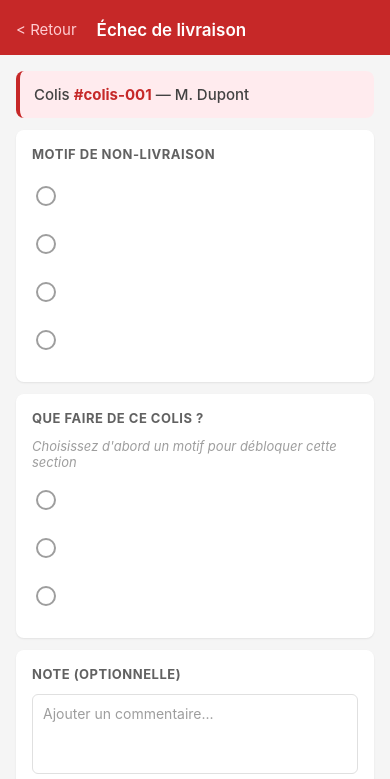
it: DeclarerEchecScreen — US-005 › L8 — masque le texte d aide disposition apres selection d un motif
Click the radio button with test id "motif-ABSENT" at point(46, 196), box x1=36 y1=186 x2=56 y2=206
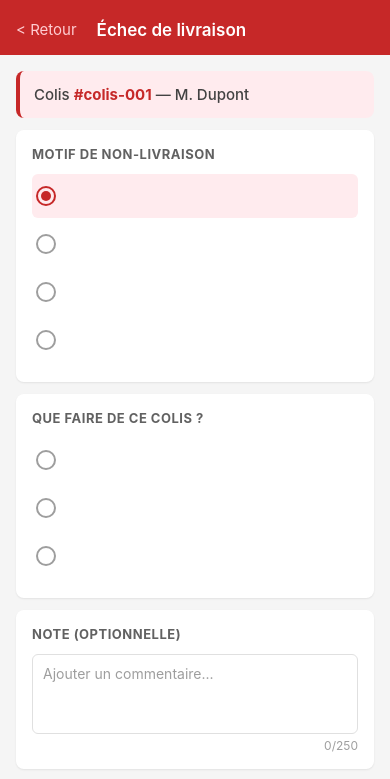
Expected: the text with test id "aide-disposition" is gone
